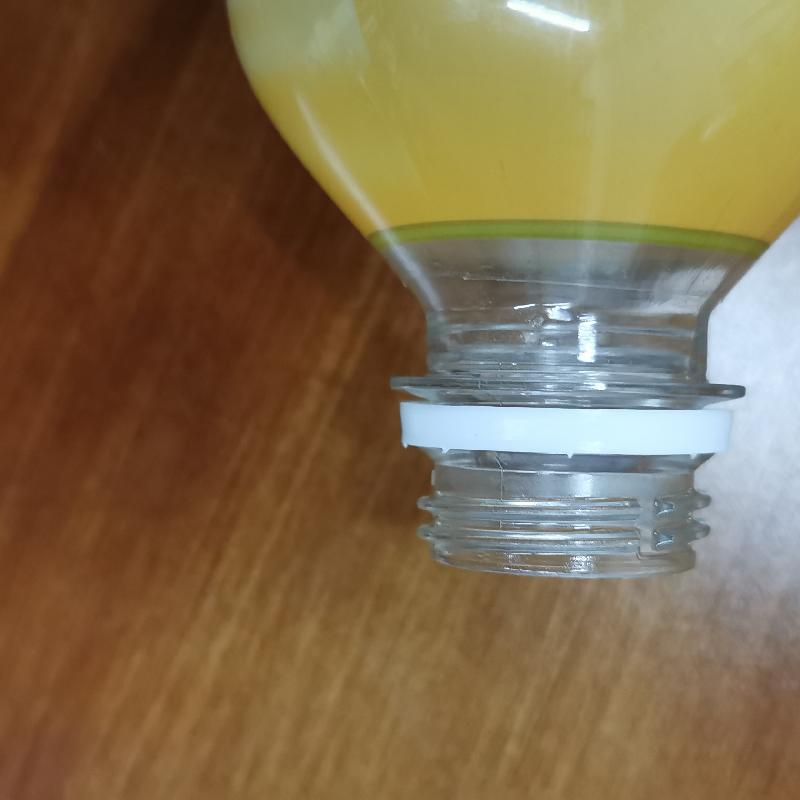bottles: (213, 0, 800, 580)
